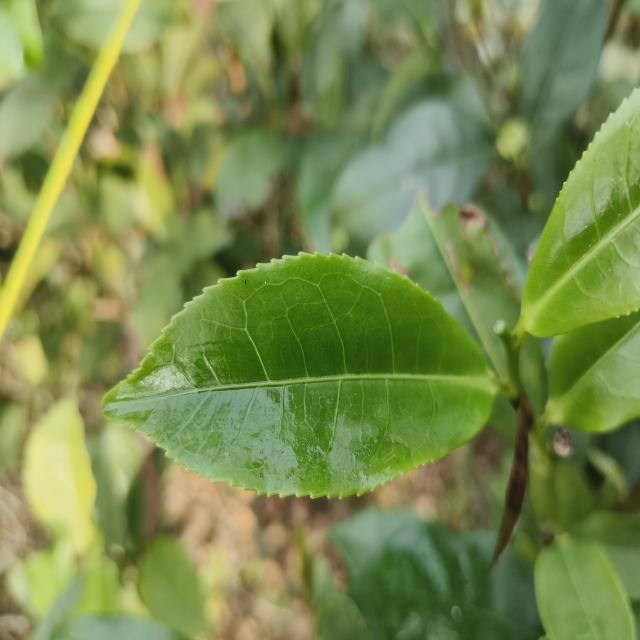Leaf: (104, 254, 498, 497), (516, 88, 640, 337), (332, 101, 490, 242), (354, 522, 542, 640), (545, 311, 640, 432), (520, 0, 606, 133), (23, 399, 96, 554), (534, 534, 636, 640), (137, 536, 208, 636), (216, 129, 287, 218), (0, 74, 59, 156), (51, 0, 125, 48), (122, 0, 170, 52)
